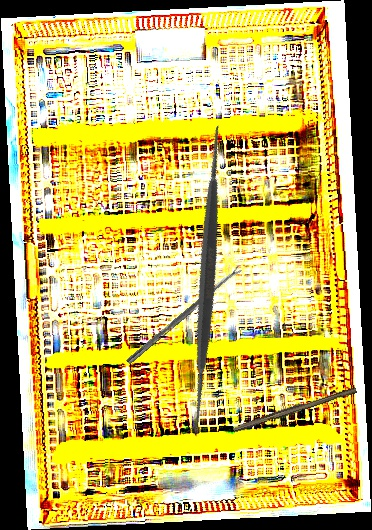Scalpel Handle: (231, 383, 358, 435)
Spatula Surgical: (47, 116, 367, 436)
Surgical Spoon: (125, 265, 244, 366)
